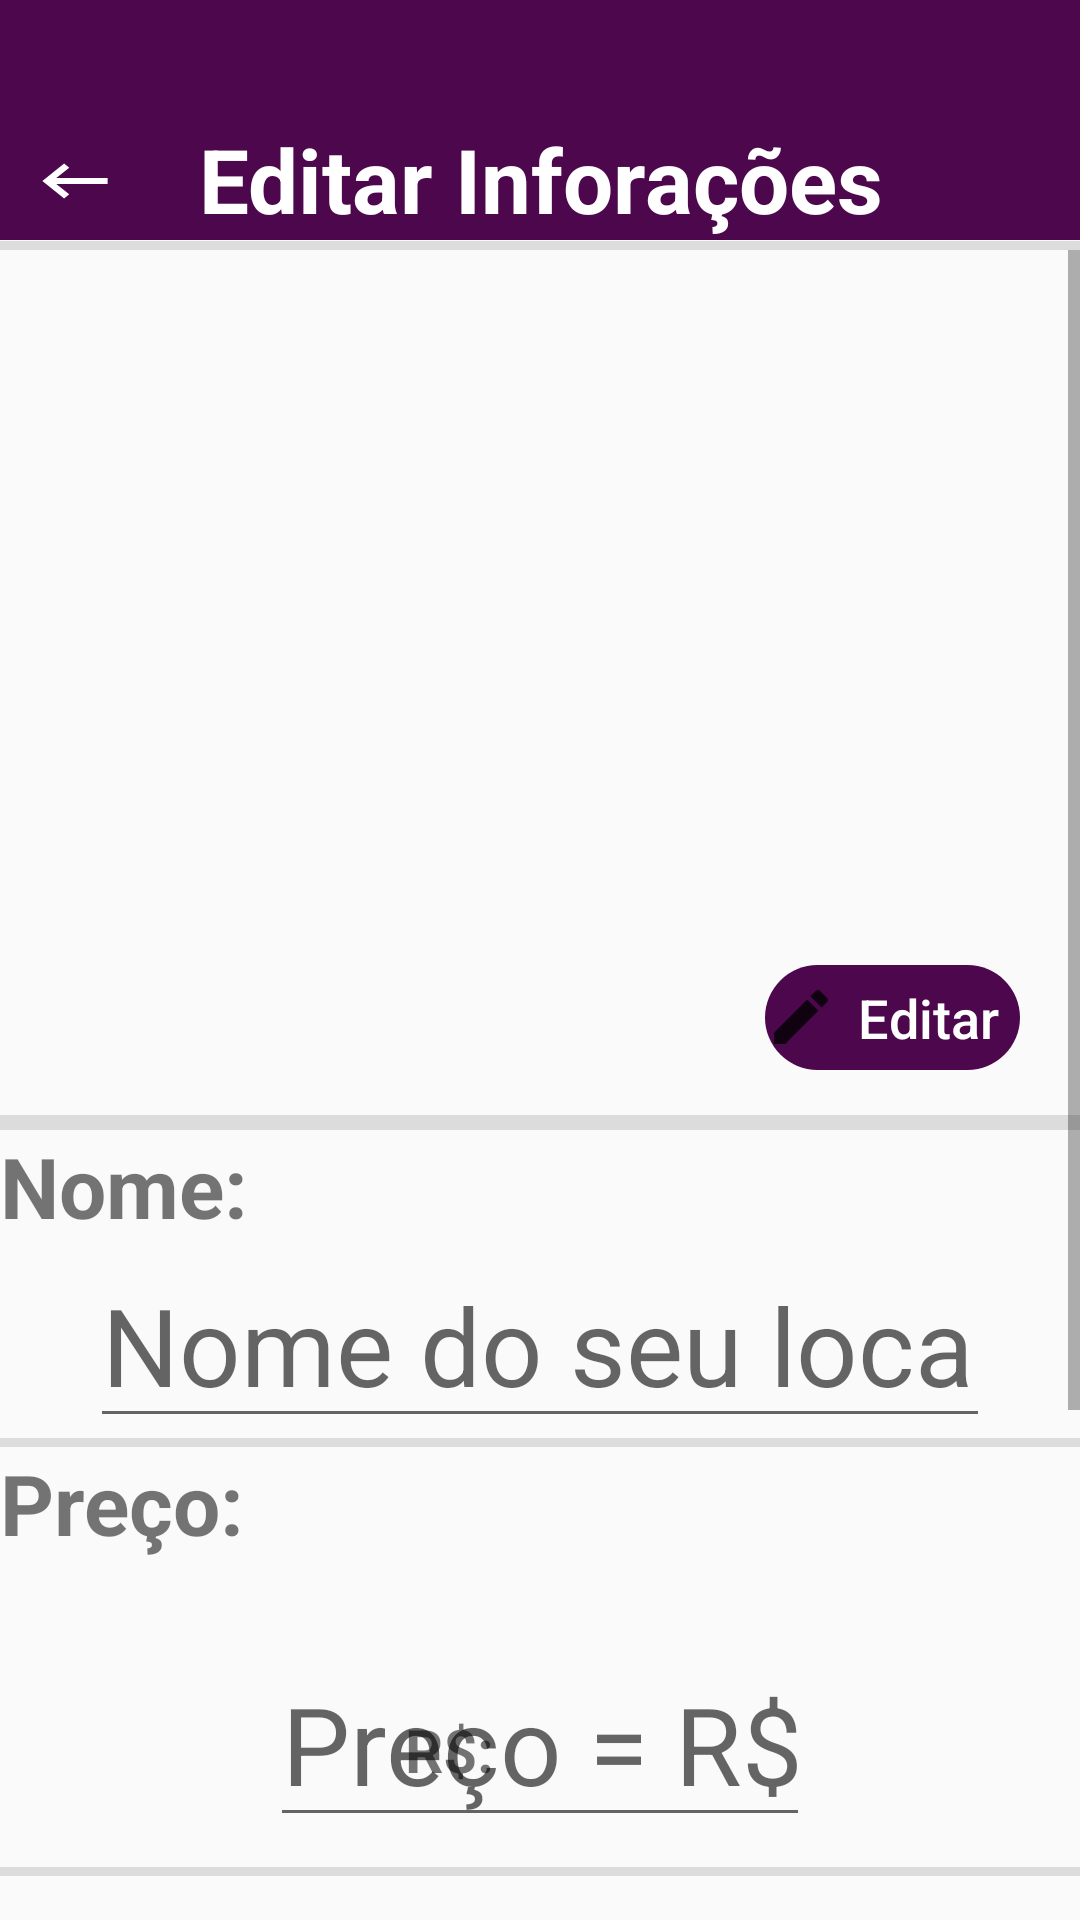

Named icons in this screenshot (1080 x 1920) and their centers, [x,y]:
voltar: [75,181]
